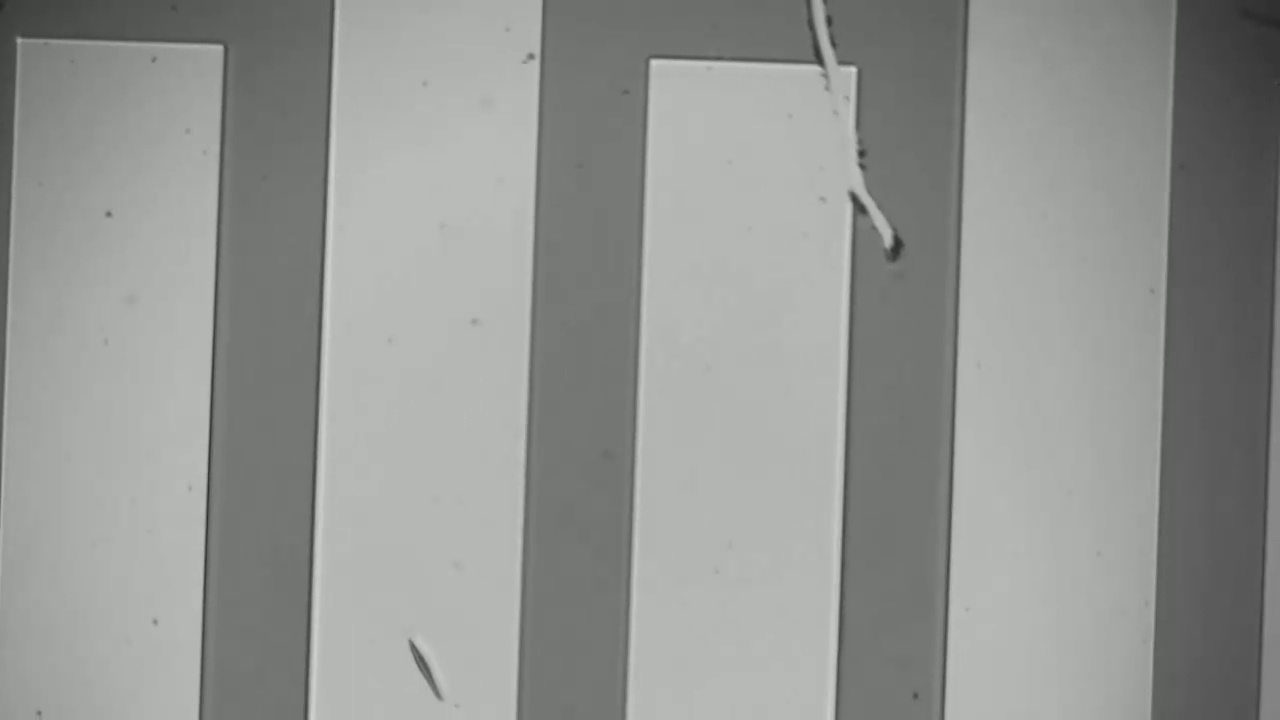Short_circuit: (789, 1, 861, 86)
